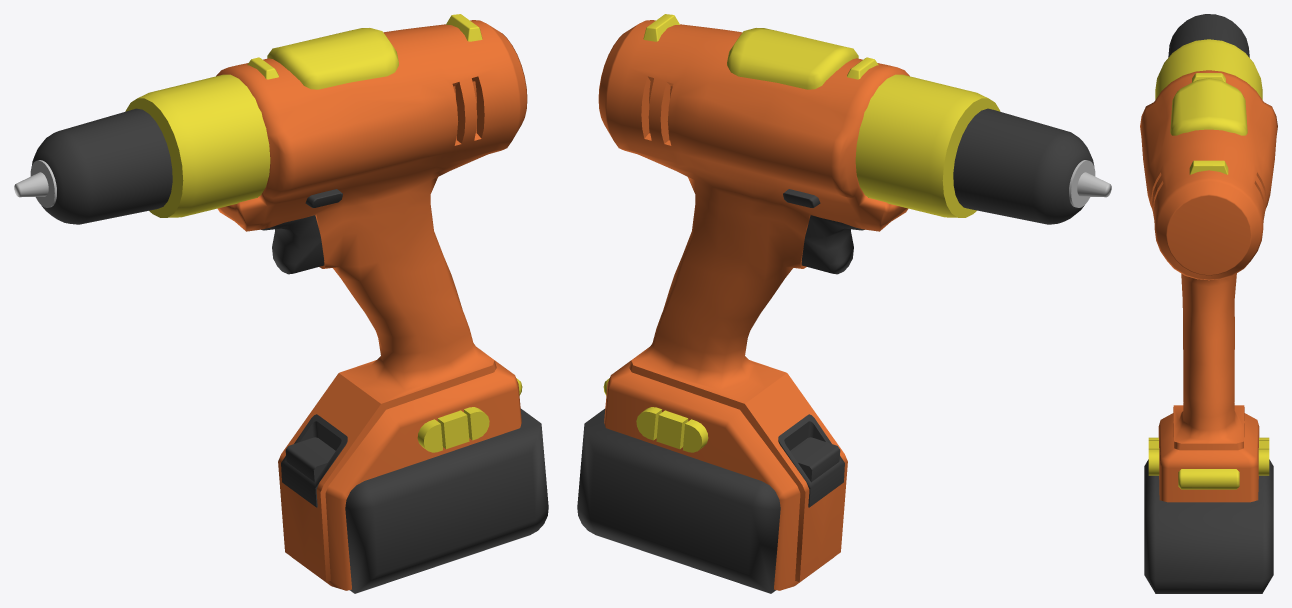
Rendered from trapano_fix.fbx.
3 views of the same model, side by side, from view 1: azimuth 30°, elevation 25°; view 2: azimuth 150°, elevation 25°; view 3: azimuth 270°, elevation 25° (orthographic). The views are drawn at different scales.
Visible parts, largest first — view 1: Drill_01; view 2: Drill_01; view 3: Drill_01.
Boxes of the visible parts, x1,y1,x2,y2 form: Drill_01: (14,14,548,593); Drill_01: (577,14,1111,593); Drill_01: (1140,14,1277,593).
Size of the model in its own units: 18.29 by 18.51 by 5.24.
